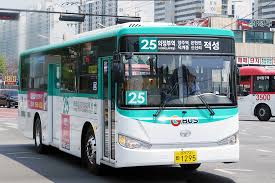bnum: (140, 38, 158, 51)
